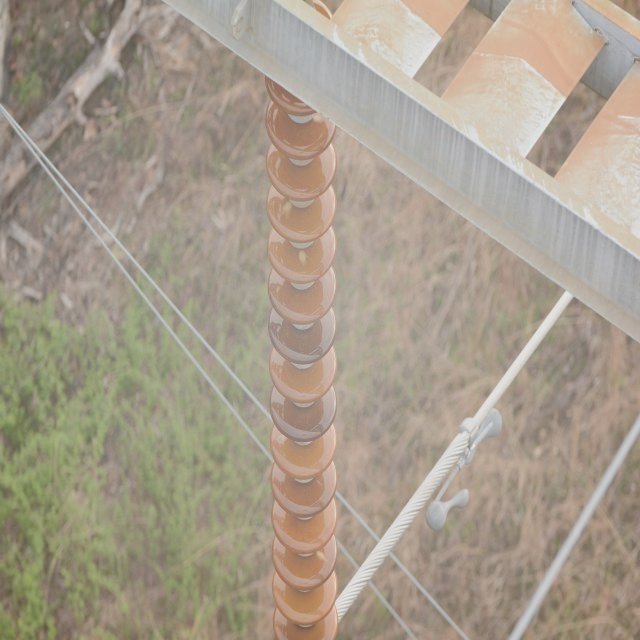insulator: (264, 35, 342, 639)
